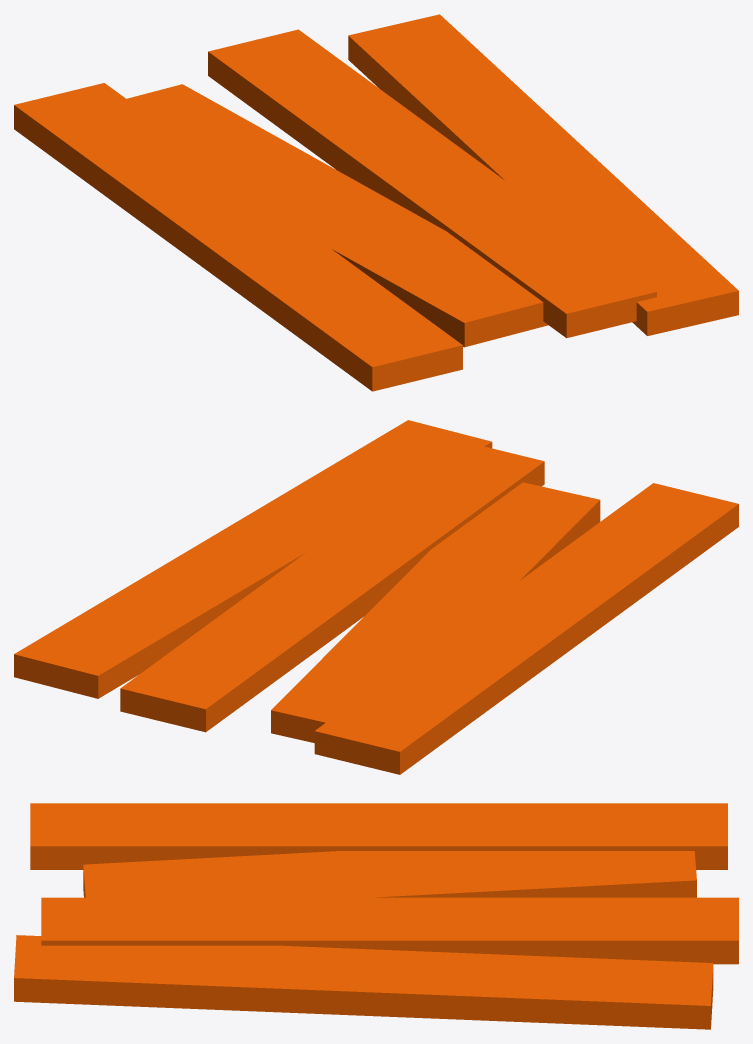
Rendered from Planks.fbx.
3 views of the same model, one above another, from view 1: azimuth 30°, elevation 25°; view 2: azimuth 150°, elevation 25°; view 3: azimuth 270°, elevation 25° (orthographic). The views are drawn at different scales.
Visible parts, largest first — view 1: Plank4, Plank1, Plank3, Plank2; view 2: Plank4, Plank1, Plank3, Plank2; view 3: Plank3, Plank1, Plank4, Plank2.
Boxes of the visible parts, x1,y1,x2,y2 form: Plank4: (14,83,462,391); Plank1: (208,29,656,338); Plank3: (348,14,738,335); Plank2: (127,84,548,347); Plank4: (314,483,738,774); Plank1: (120,440,544,732); Plank3: (14,420,492,698); Plank2: (271,482,600,742); Plank3: (14,935,713,1029); Plank1: (41,897,738,964); Plank4: (30,803,727,869); Plank2: (83,851,696,897).
Bounding box in the file's own units: 480 × 32.55 × 742.
